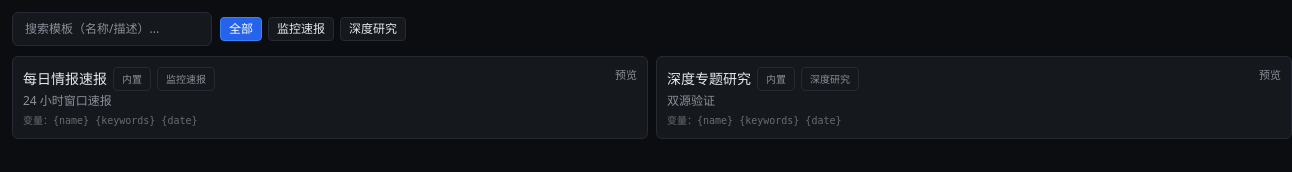
Test: TemplateGrid › filters by search query and category
This screenshot has width=1292, height=172.
Check: the text "每日情报速报" is shown, box left=23, top=69, right=107, bottom=89
Check: the text "深度专题研究" is shown, box left=667, top=69, right=751, bottom=89
Click the button titled "筛选：深度研究": point(373, 29) left=340, top=17, right=406, bottom=41
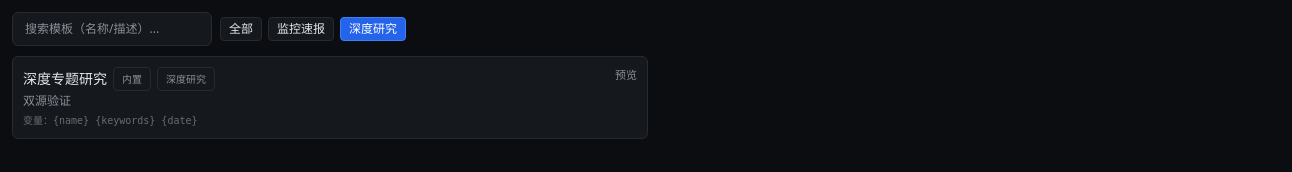
Check: the button "每日情报速报" is gone
Click the button titled "筛选：全部": point(241, 29) left=220, top=17, right=262, bottom=41
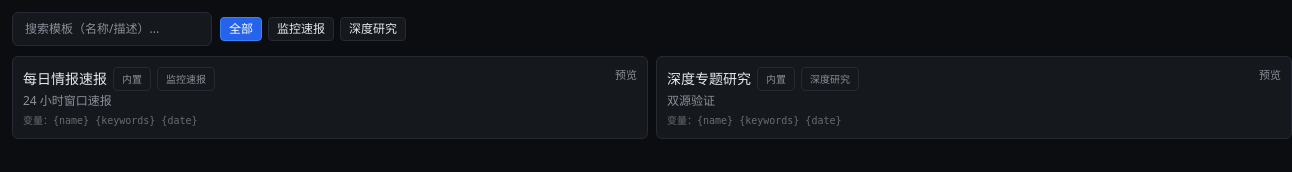
In the field with placeholder "搜索模板（名称/描述）...": point(112, 29) left=12, top=12, right=212, bottom=46, type "双源"
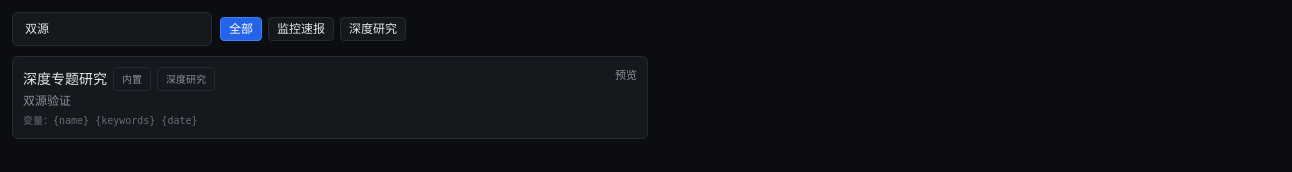
Check: the text "深度专题研究" is shown, box left=23, top=69, right=107, bottom=89
Check: the button "每日情报速报" is gone
